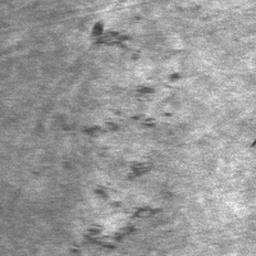Rolled in scale: (67, 0, 181, 158), (70, 184, 173, 256), (178, 5, 250, 42), (2, 23, 22, 55), (128, 156, 150, 180), (250, 139, 256, 149)
